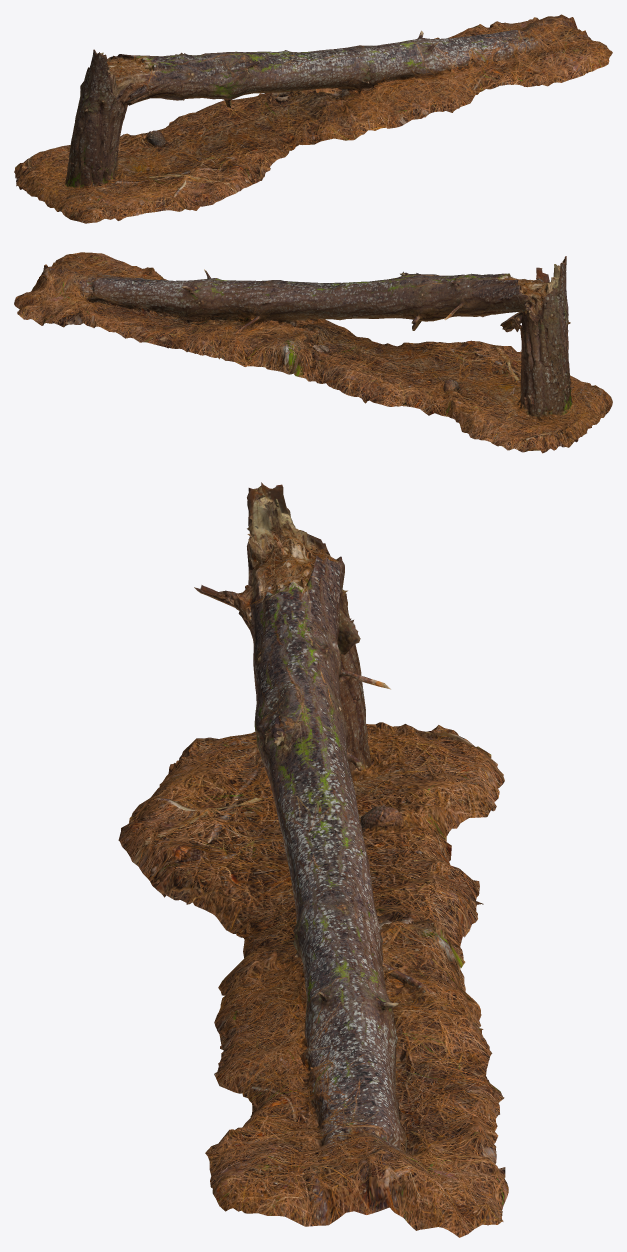
File: fallen_pine_tree_rfgxx_mid.glb
The picture shows the model from 3 angles, top to bottom: view 1: azimuth 30°, elevation 25°; view 2: azimuth 150°, elevation 25°; view 3: azimuth 270°, elevation 25°; orthographic projection. The views are drawn at different scales.
Parts seen in each view (by area): view 1: rfgxx_LOD0_TIER2_000; view 2: rfgxx_LOD0_TIER2_000; view 3: rfgxx_LOD0_TIER2_000.
Part boxes in pixels (x1,y1,x2,y2): rfgxx_LOD0_TIER2_000: (14, 14, 612, 223); rfgxx_LOD0_TIER2_000: (14, 252, 612, 453); rfgxx_LOD0_TIER2_000: (118, 482, 508, 1237).
Bounding box in the file's own units: 3.58 × 0.9427 × 1.1.
1 material, 1 textured.
